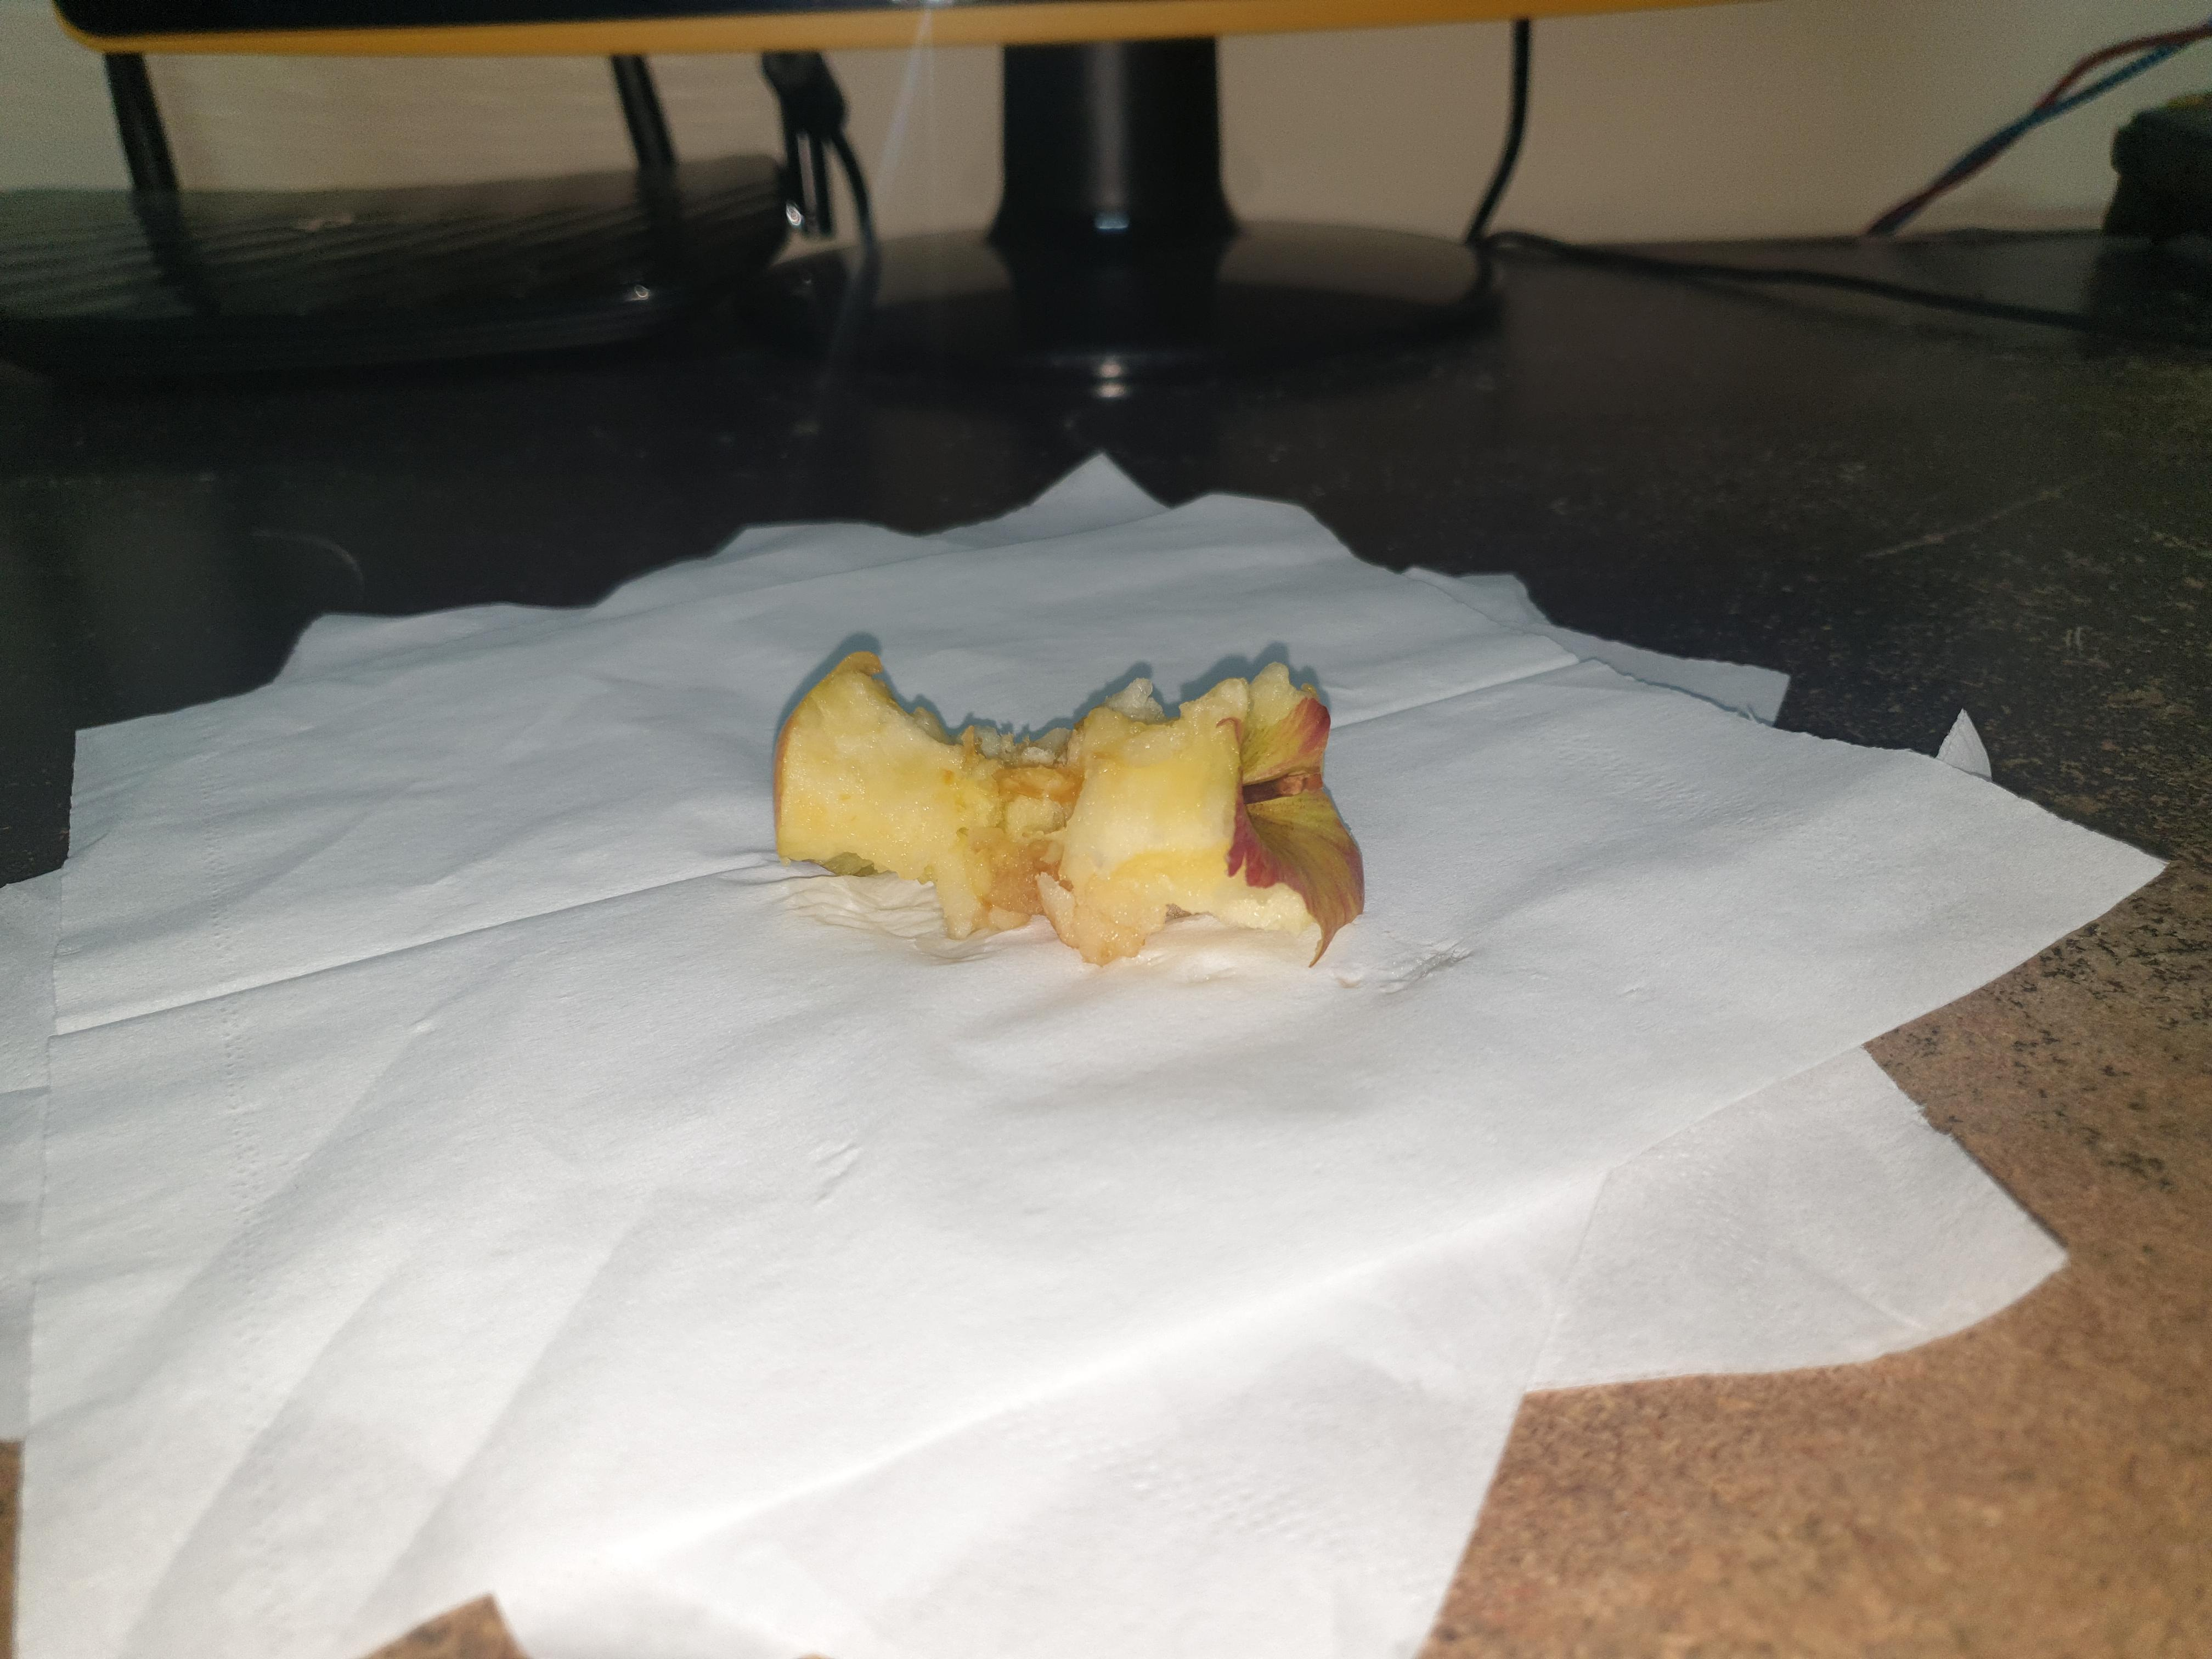Apple: (733, 612, 1463, 999)
